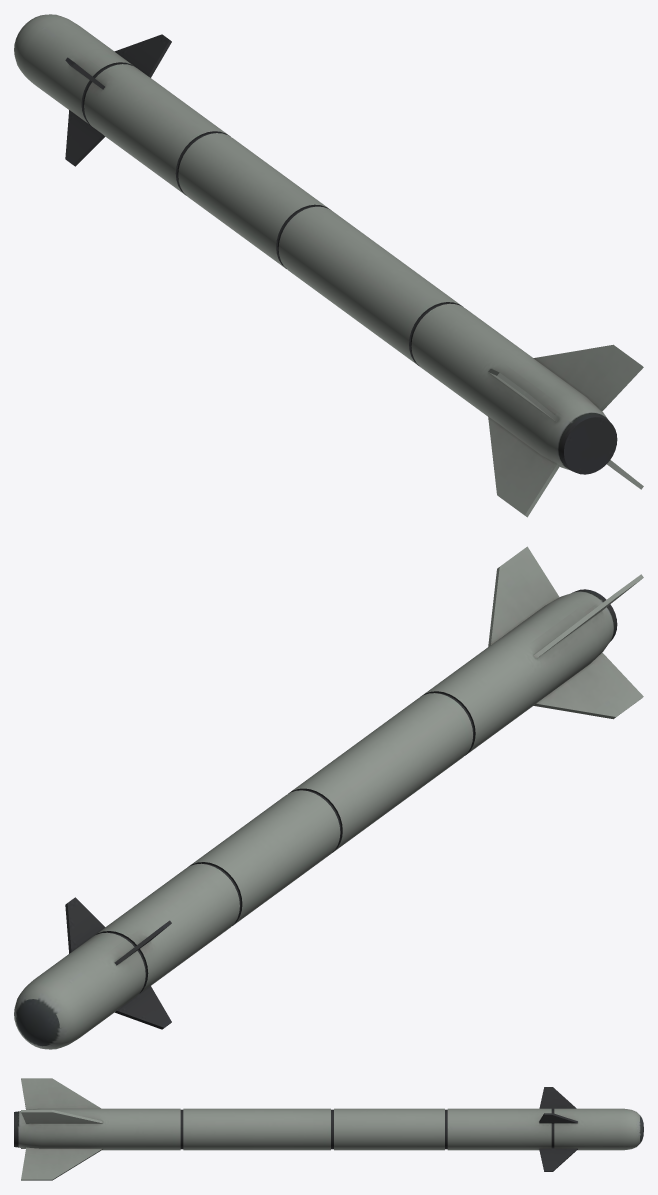
Rendered from msl_strela1.glb.
3 renders of one model, top to bottom at view 1: azimuth 30°, elevation 25°; view 2: azimuth 150°, elevation 25°; view 3: azimuth 270°, elevation 25°, orthographic. The views are drawn at different scales.
Visible parts, largest first — view 1: body|M31_atlas; view 2: body|M31_atlas; view 3: body|M31_atlas.
Part boxes in pixels (x1,y1,x2,y2): body|M31_atlas: [14, 14, 643, 517]; body|M31_atlas: [14, 546, 643, 1049]; body|M31_atlas: [14, 1078, 643, 1180].
Bounding box in the file's own units: 0.2227 × 0.2227 × 1.8.
Materials: 1 (1 with a texture image).
